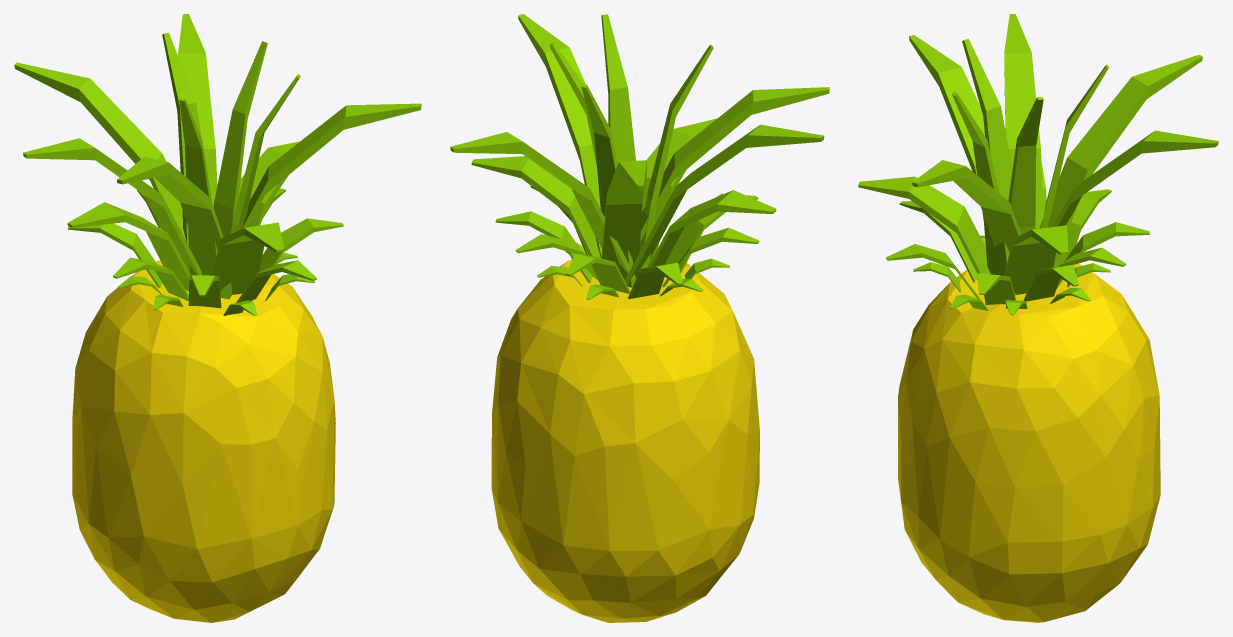
3 renders of one model, left to right at view 1: azimuth 30°, elevation 25°; view 2: azimuth 150°, elevation 25°; view 3: azimuth 270°, elevation 25°, orthographic.
Parts seen in each view (by area): view 1: PineApple; view 2: PineApple; view 3: PineApple.
Boxes of the visible parts, x1,y1,x2,y2 form: PineApple: (14, 14, 421, 622); PineApple: (450, 14, 829, 622); PineApple: (858, 14, 1218, 622).
Size of the model in its own units: 1.63 by 2.42 by 1.47.
